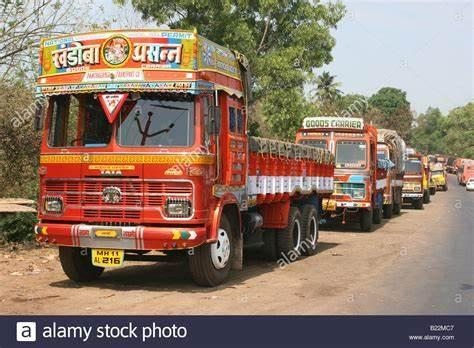truck: (27, 29, 340, 276)
